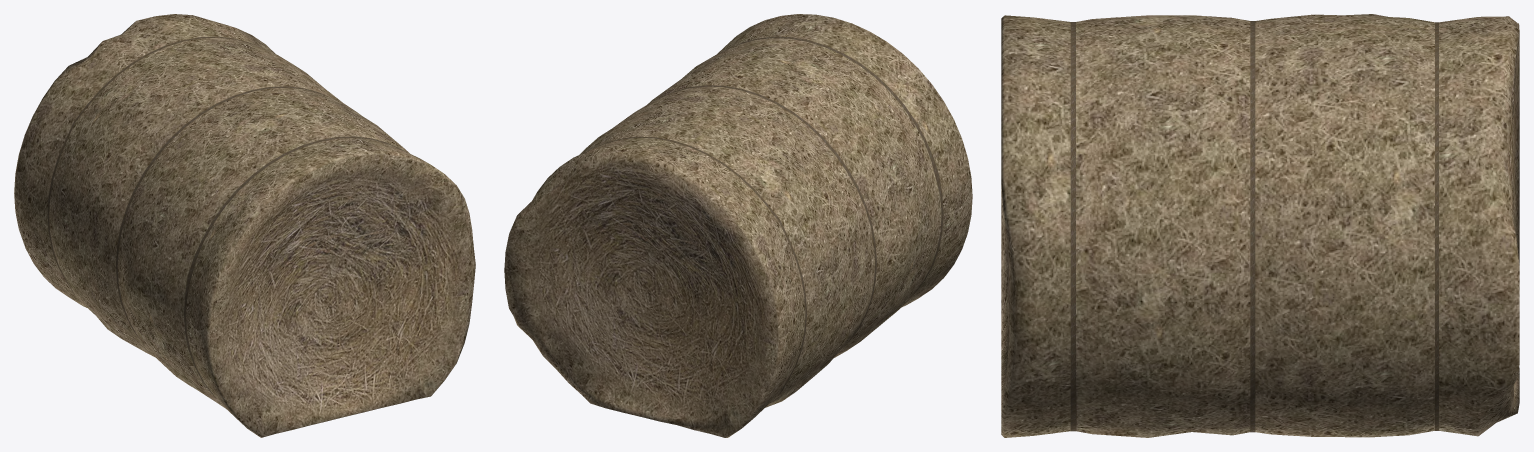
The model's file is hay_bale_round.glb.
The picture shows the model from 3 angles, left to right: view 1: azimuth 30°, elevation 25°; view 2: azimuth 150°, elevation 25°; view 3: azimuth 270°, elevation 25°; orthographic projection. The views are drawn at different scales.
Parts seen in each view (by area): view 1: Object_4; view 2: Object_4; view 3: Object_4.
Boxes of the visible parts, x1,y1,x2,y2 form: Object_4: (14,14,475,437); Object_4: (504,14,972,437); Object_4: (1001,14,1519,437).
Bounding box in the file's own units: 2.05 × 1.81 × 2.42.
1 material, 1 textured.
